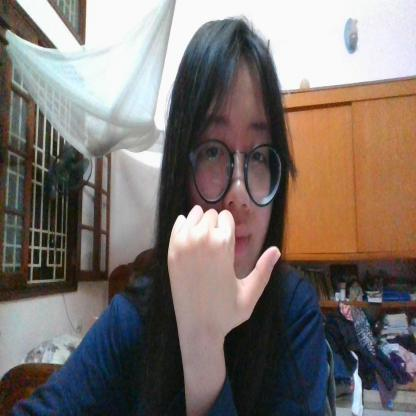left: (167, 198, 282, 349)
